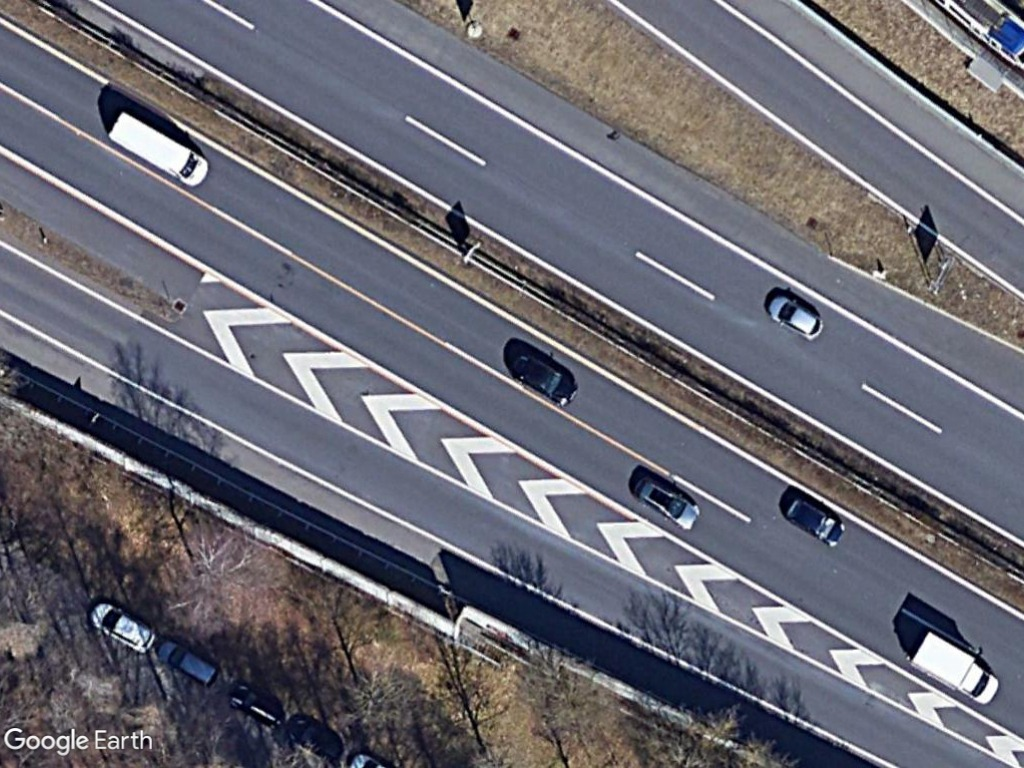car: (631, 475, 703, 531), (89, 601, 159, 656), (763, 292, 831, 344), (157, 638, 219, 688)
truck: (900, 631, 1005, 706)
van: (103, 104, 211, 190)
